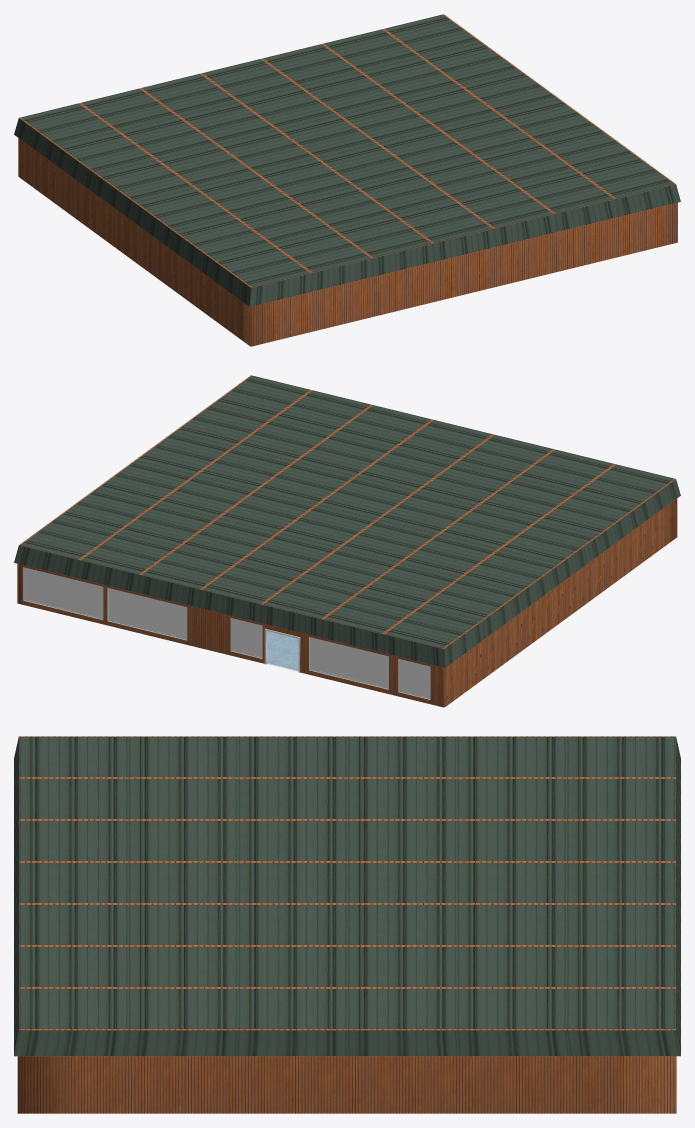
The model's file is Kjiwi.glb.
3 renders of one model, top to bottom at view 1: azimuth 30°, elevation 25°; view 2: azimuth 150°, elevation 25°; view 3: azimuth 270°, elevation 25°, orthographic. The views are drawn at different scales.
Parts seen in each view (by area): view 1: Kjiwi; view 2: Kjiwi, Vindu; view 3: Kjiwi.
Part boxes in pixels (<box>): Kjiwi: <box>14,14,680,346</box>; Kjiwi: <box>14,375,680,707</box>; Vindu: <box>28,569,428,697</box>; Kjiwi: <box>14,736,680,1113</box>.
Bounding box in the file's own units: 262 × 34 × 248.
Materials: 7 (4 with a texture image).
